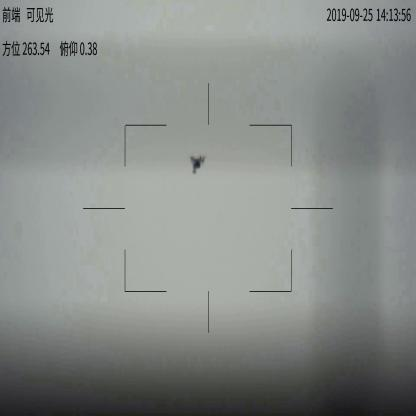uav: (189, 150, 205, 178)
